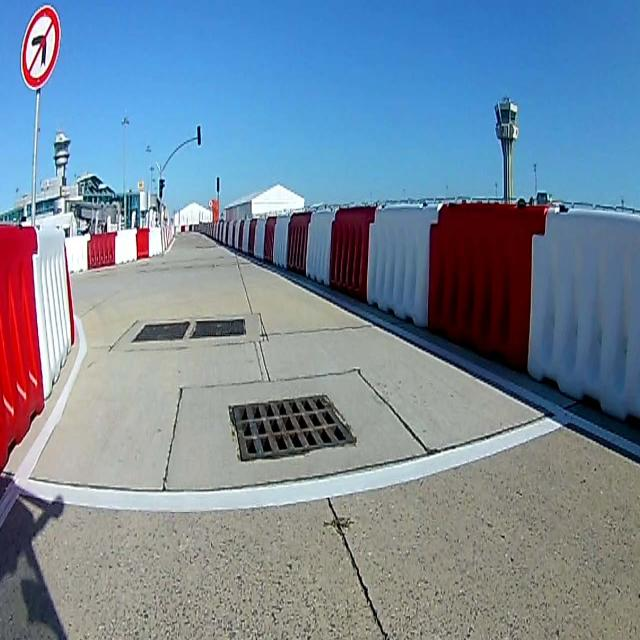soladonulmez: (21, 5, 59, 86)
